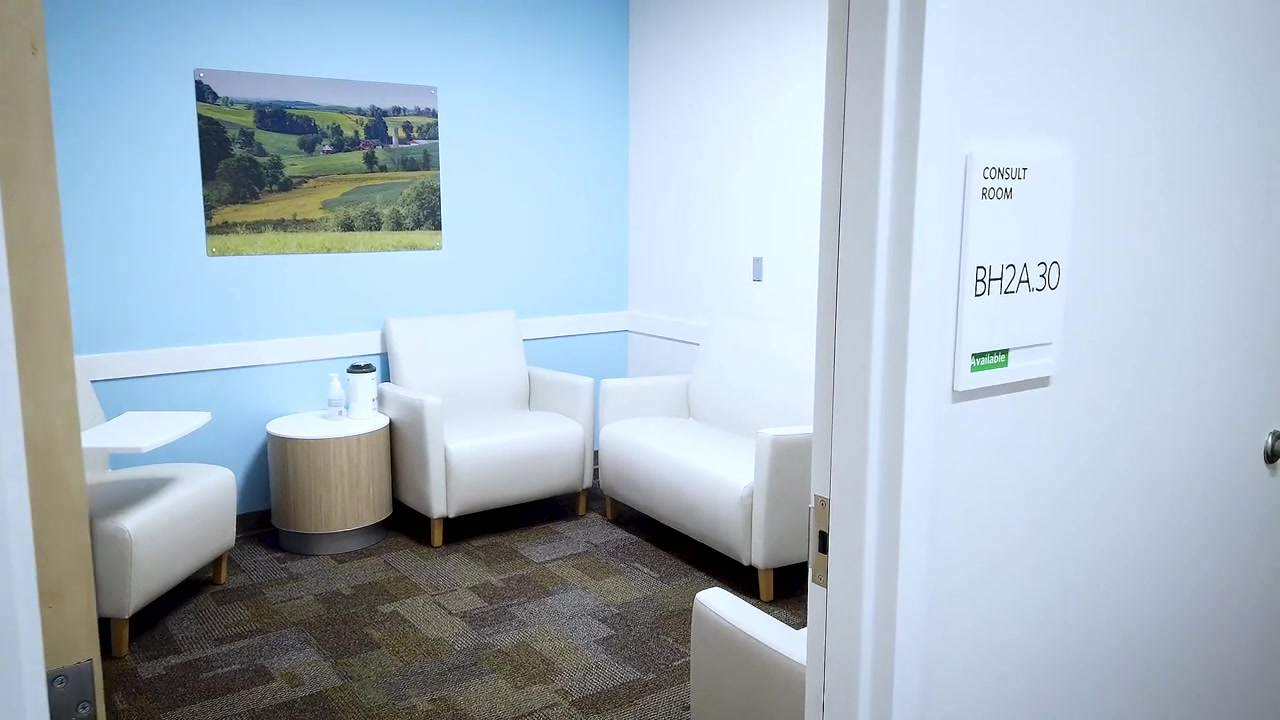dispenser: (327, 373, 346, 421)
sofa: (597, 323, 814, 603), (380, 308, 596, 547), (75, 361, 239, 662), (688, 575, 809, 720)
table: (262, 406, 394, 556)
